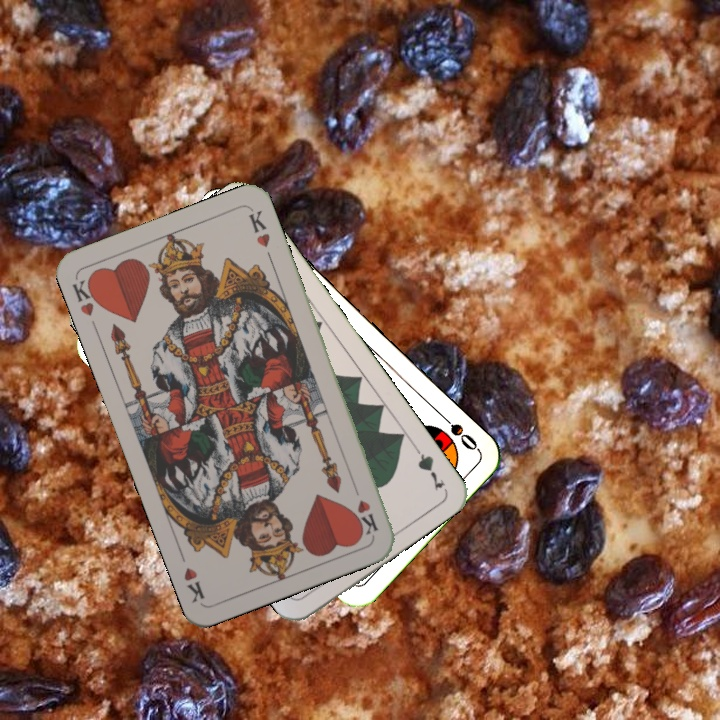G7: (407, 439, 448, 494)
HK: (348, 480, 381, 537), (68, 272, 104, 319)
SO: (433, 407, 481, 453)
